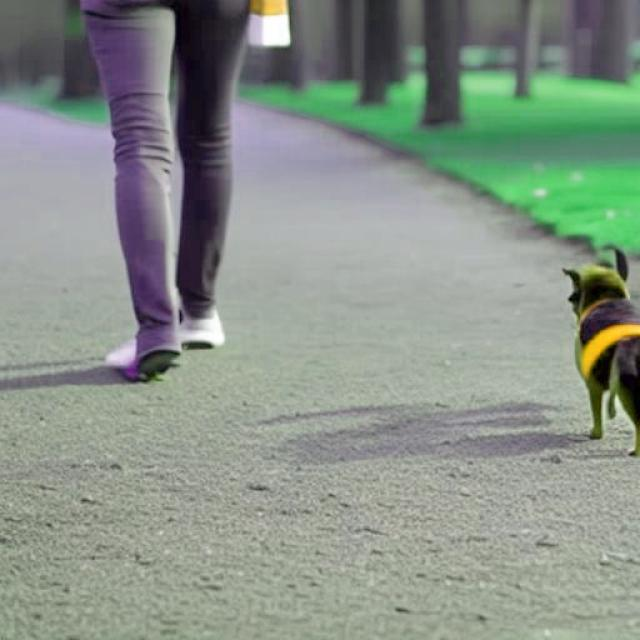Unleashed_Dog: (80, 0, 640, 455)
